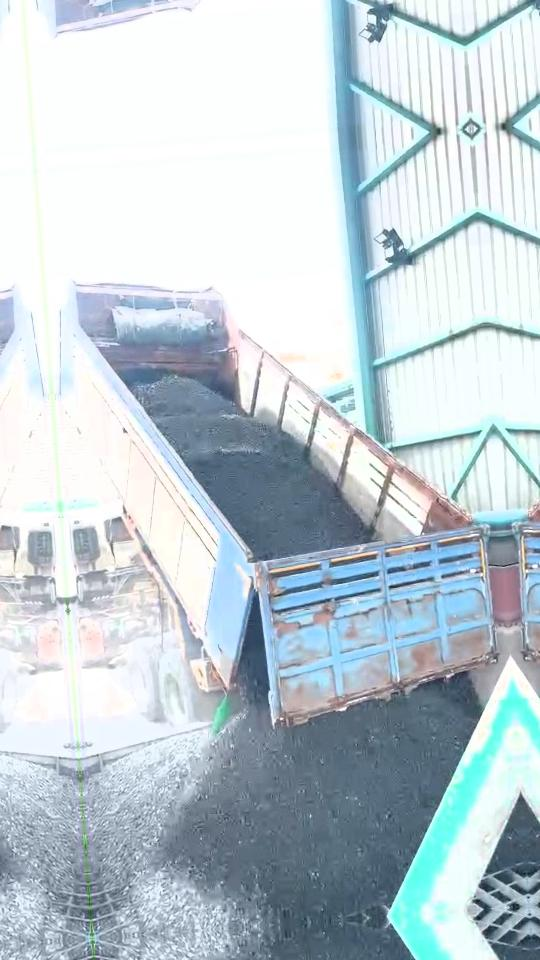gravel: (84, 683, 478, 935), (132, 376, 368, 557), (496, 808, 525, 865)
